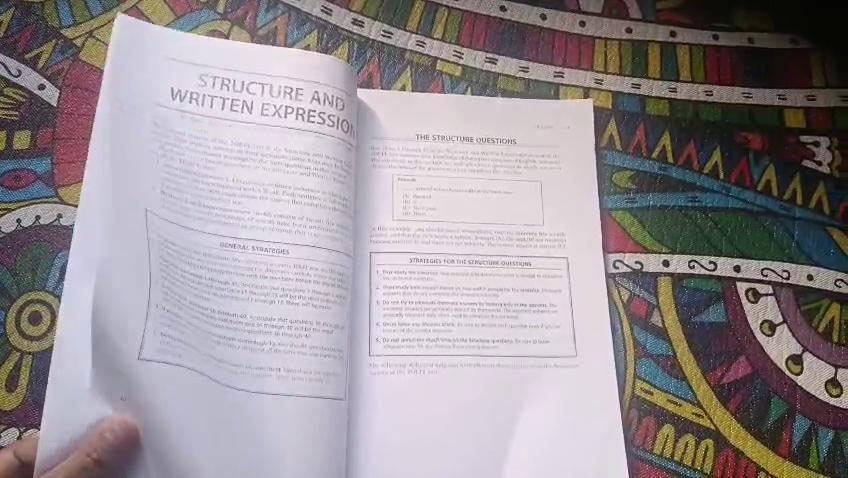Kertas: (142, 102, 587, 478), (287, 101, 593, 478)
